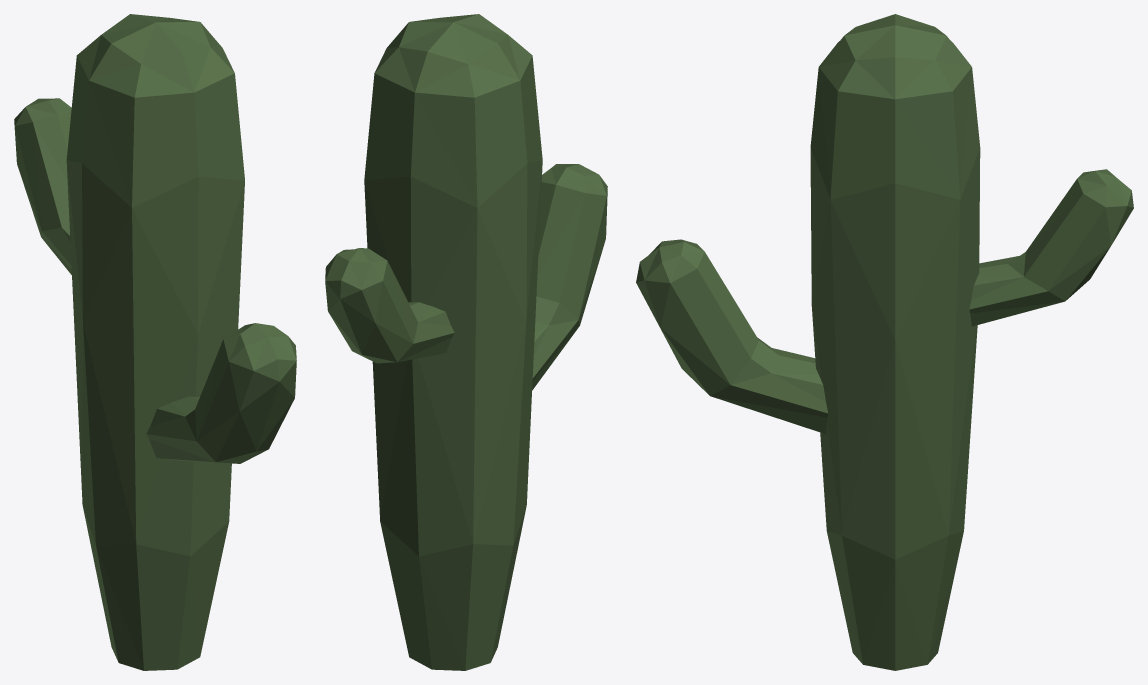
The model's file is Cactus_3.lod1.glb.
The picture shows the model from 3 angles, left to right: view 1: azimuth 30°, elevation 25°; view 2: azimuth 150°, elevation 25°; view 3: azimuth 270°, elevation 25°; orthographic projection.
Visible parts, largest first — view 1: Cactus_3; view 2: Cactus_3; view 3: Cactus_3.
Boxes of the visible parts, x1,y1,x2,y2 form: Cactus_3: [14, 14, 296, 670]; Cactus_3: [325, 14, 607, 670]; Cactus_3: [636, 14, 1133, 670].
Size of the model in its own units: 0.3418 by 1.41 by 1.
